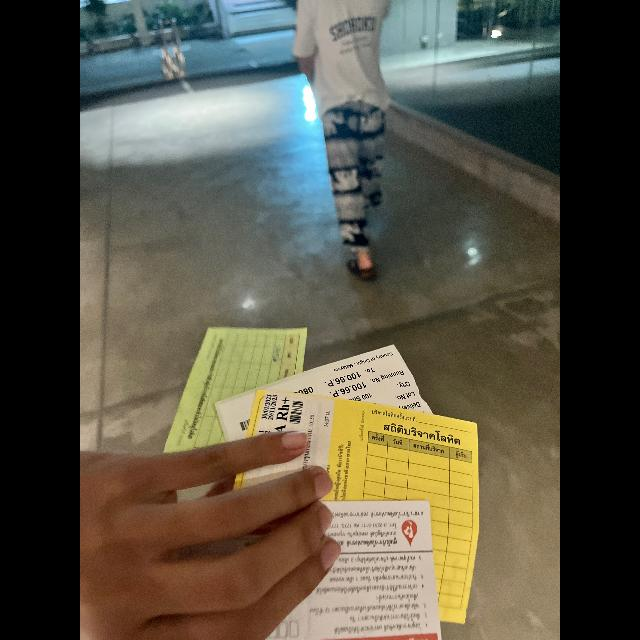scrap_paper: (320, 397, 486, 623), (216, 338, 434, 484), (259, 490, 436, 640), (163, 312, 313, 472)
